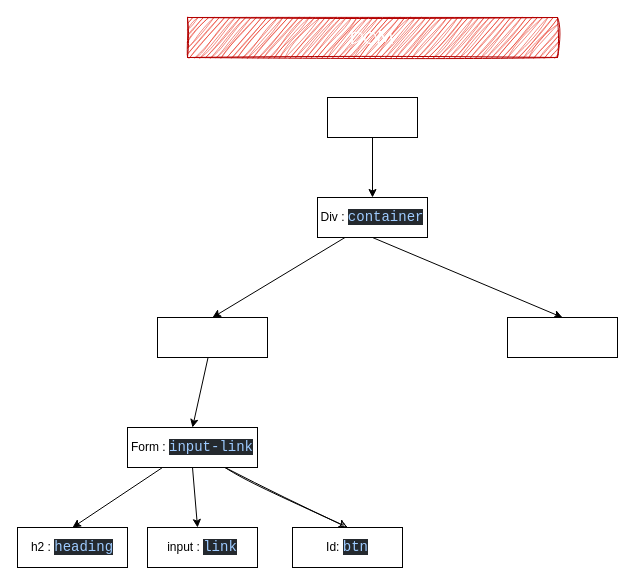
The diagram is 635 pixels wide and 585 high, and some of its shapes have lost their labels. The centre of each missing label's shape, as x and y in pixels:
"body" goes at [372,117].
"Div : card" goes at [562,337].
"Div : head" goes at [212,337].
